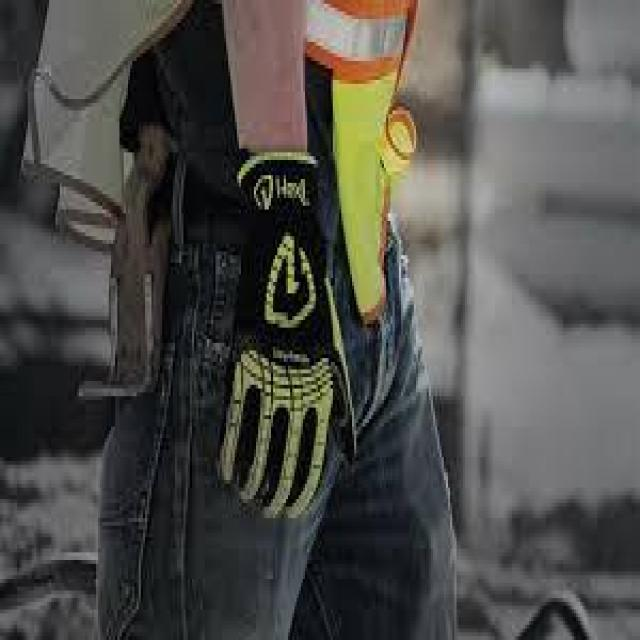Gloves: (212, 142, 364, 535)
